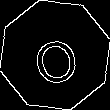O_N: (28, 25, 82, 85)
